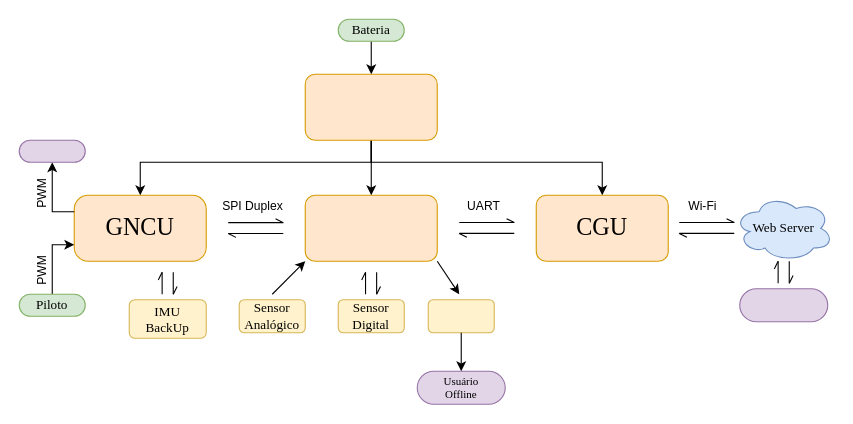
Some shapes in this 853 by 424 pixel diagram are drawn without their labels. The box of each missing label's shape, as (x1, y1, x2, y2) in pixels:
Atuadores: (18, 139, 85, 162)
DAPU: (304, 194, 437, 261)
PDN: (304, 73, 437, 140)
Salvamento dos dados: (427, 299, 494, 333)
Usuário Real Time: (739, 288, 828, 322)
